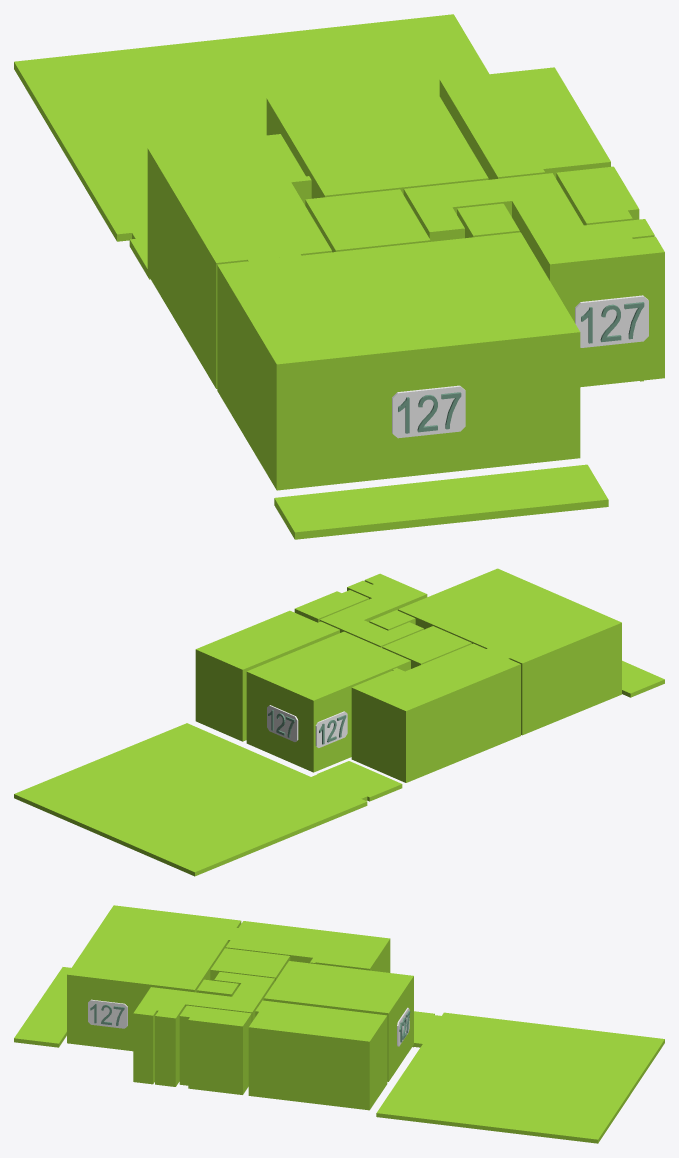
3 views of the same model, one above another, from view 1: azimuth 30°, elevation 25°; view 2: azimuth 150°, elevation 25°; view 3: azimuth 270°, elevation 25° (orthographic). The views are drawn at different scales.
Parts seen in each view (by area): view 1: g_1, g_8, g_0, g_4, g_6, g_9, g_7, g_2, g_5, g_25, g_17, g_3; view 2: g_8, g_1, g_0, g_6, g_7, g_4, g_2, g_5, g_9, g_13, g_29, g_3; view 3: g_8, g_1, g_7, g_6, g_4, g_5, g_0, g_9, g_2, g_21, g_3.
Boxes of the visible parts, x1=… form: g_1: x1=217, y1=232, x2=580, y2=490; g_8: x1=14, y1=14, x2=489, y2=279; g_0: x1=147, y1=134, x2=331, y2=388; g_4: x1=403, y1=173, x2=664, y2=387; g_6: x1=266, y1=80, x2=488, y2=198; g_9: x1=274, y1=464, x2=608, y2=539; g_7: x1=439, y1=67, x2=610, y2=179; g_2: x1=305, y1=189, x2=430, y2=252; g_5: x1=556, y1=166, x2=639, y2=225; g_25: x1=392, y1=385, x2=465, y2=438; g_17: x1=575, y1=295, x2=648, y2=347; g_3: x1=457, y1=203, x2=519, y2=238; g_8: x1=14, y1=723, x2=402, y2=876; g_1: x1=398, y1=568, x2=621, y2=735; g_0: x1=351, y1=643, x2=520, y2=782; g_6: x1=246, y1=631, x2=410, y2=772; g_7: x1=195, y1=610, x2=339, y2=741; g_4: x1=319, y1=573, x2=427, y2=647; g_2: x1=382, y1=626, x2=471, y2=668; g_5: x1=294, y1=590, x2=368, y2=622; g_9: x1=622, y1=660, x2=664, y2=697; g_13: x1=267, y1=705, x2=298, y2=741; g_29: x1=315, y1=711, x2=347, y2=747; g_3: x1=369, y1=610, x2=415, y2=630; g_8: x1=376, y1=1011, x2=664, y2=1143; g_1: x1=67, y1=905, x2=241, y2=1051; g_7: x1=248, y1=1000, x2=387, y2=1110; g_6: x1=264, y1=961, x2=413, y2=1081; g_4: x1=133, y1=972, x2=274, y2=1086; g_5: x1=179, y1=1005, x2=251, y2=1094; g_0: x1=225, y1=921, x2=390, y2=972; g_9: x1=14, y1=967, x2=71, y2=1047; g_2: x1=210, y1=948, x2=290, y2=981; g_21: x1=88, y1=999, x2=127, y2=1028; g_3: x1=196, y1=979, x2=238, y2=996.
Bounding box in the file's own units: 13.89 × 2.74 × 22.11.
